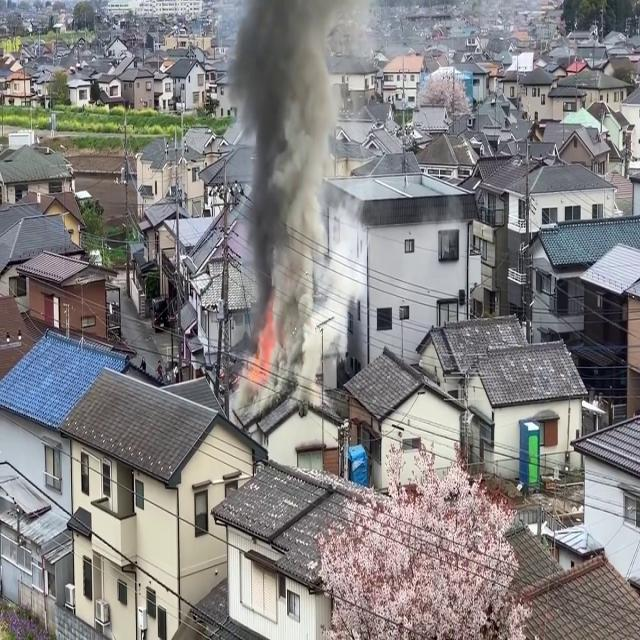Fire: (236, 312, 278, 389)
Smoke: (230, 1, 354, 385)
